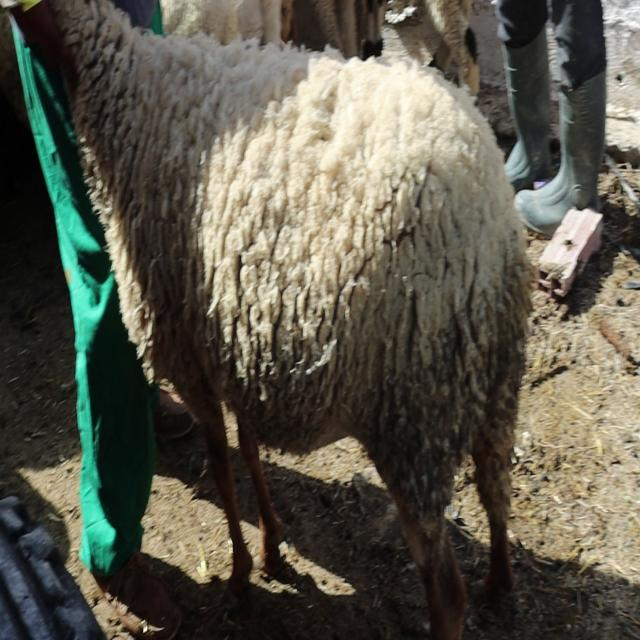Score_5: (50, 0, 534, 639)
